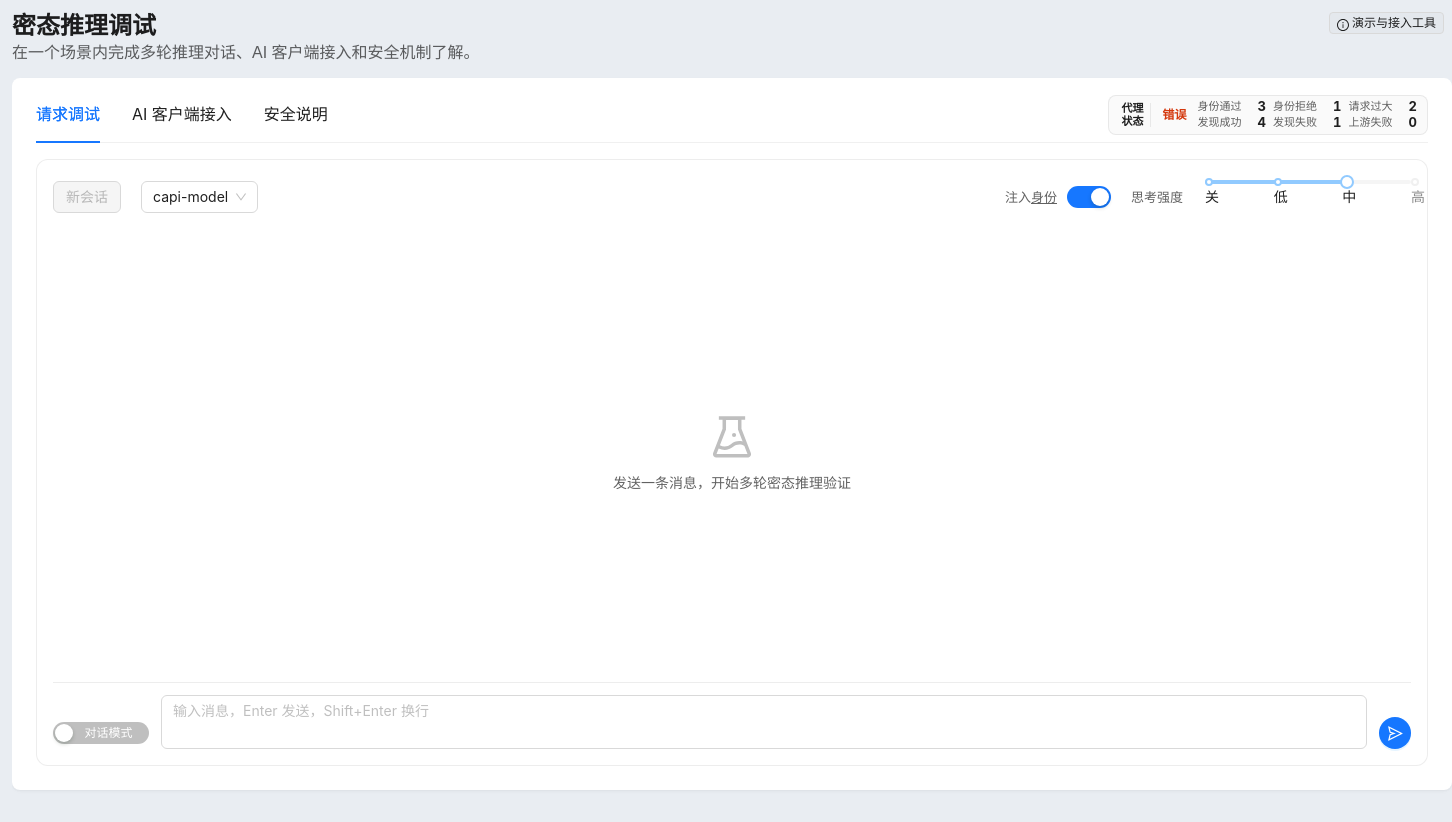
Test: InferenceView › enters terminal failure immediately when no delta arrives
The width and height of the screenshot is (1452, 822).
Step 1. Type "无输出失败" into the text box with placeholder "输入消息，Enter 发送，Shift+Enter 换行" → (764,722), box x1=161 y1=695 x2=1367 y2=749
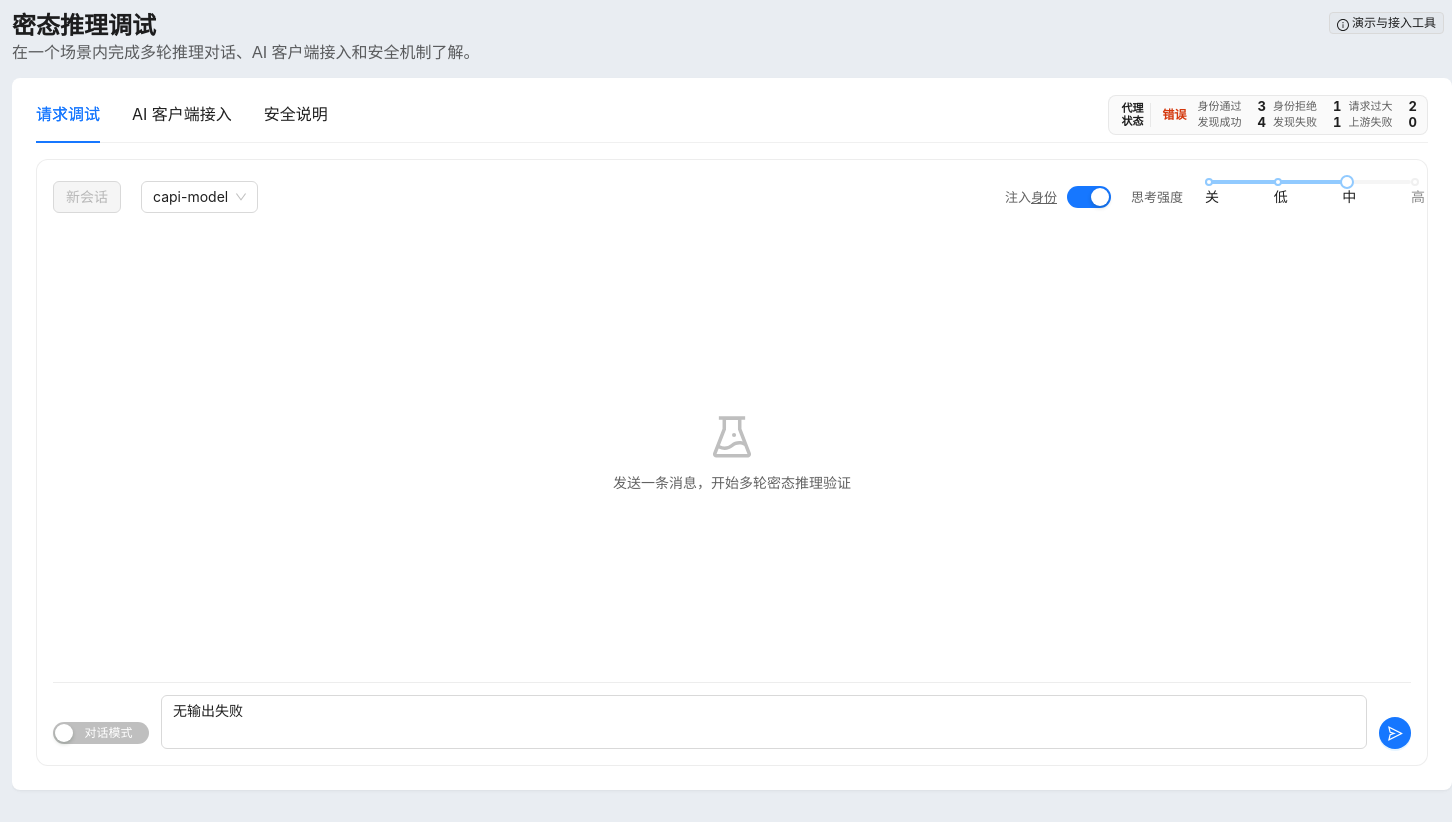
Step 2. Click the button with class "send-button" → (1395,733), box x1=1379 y1=717 x2=1411 y2=749
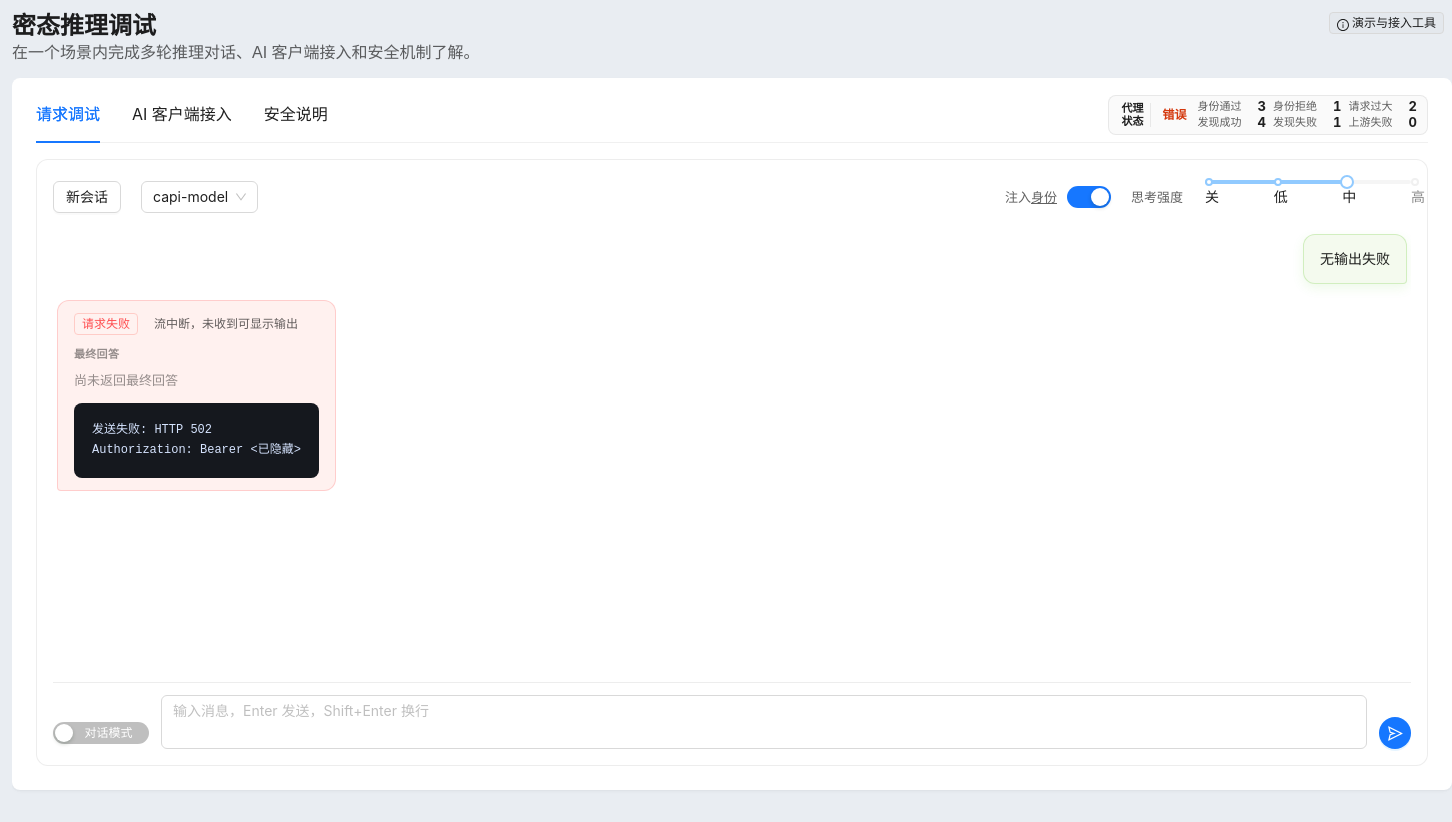
Result: the text "请求失败" is shown at x1=74 y1=313 x2=138 y2=335
Result: the text with class "assistant-debug" shows "HTTP 502" at x1=92 y1=423 x2=301 y2=456
